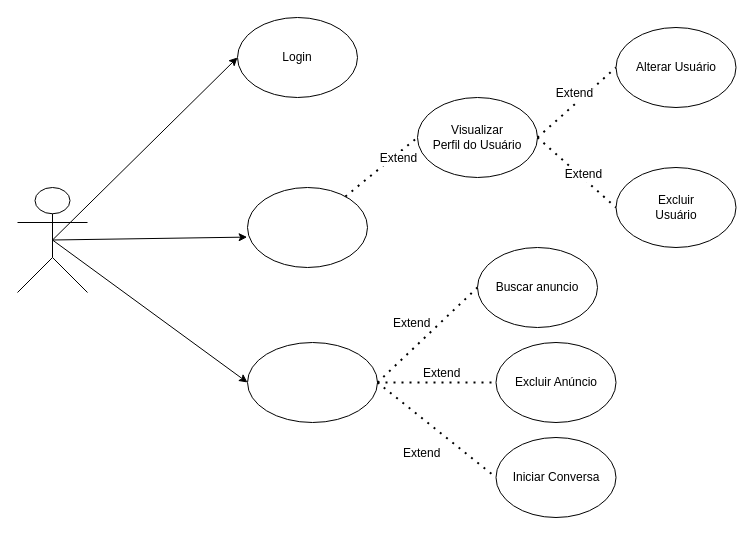
Some shapes in this 754 by 535 pixel diagram are drawn without their labels. The shapes that lost their labels are listed below. From the top down, each one's box as (x1, y1, x2, y2) in pixels, then its label:
(16, 186, 88, 292): Usuário
(246, 186, 368, 268): Cadastrar Usuario
(246, 342, 378, 422): Visualizar anúncios
